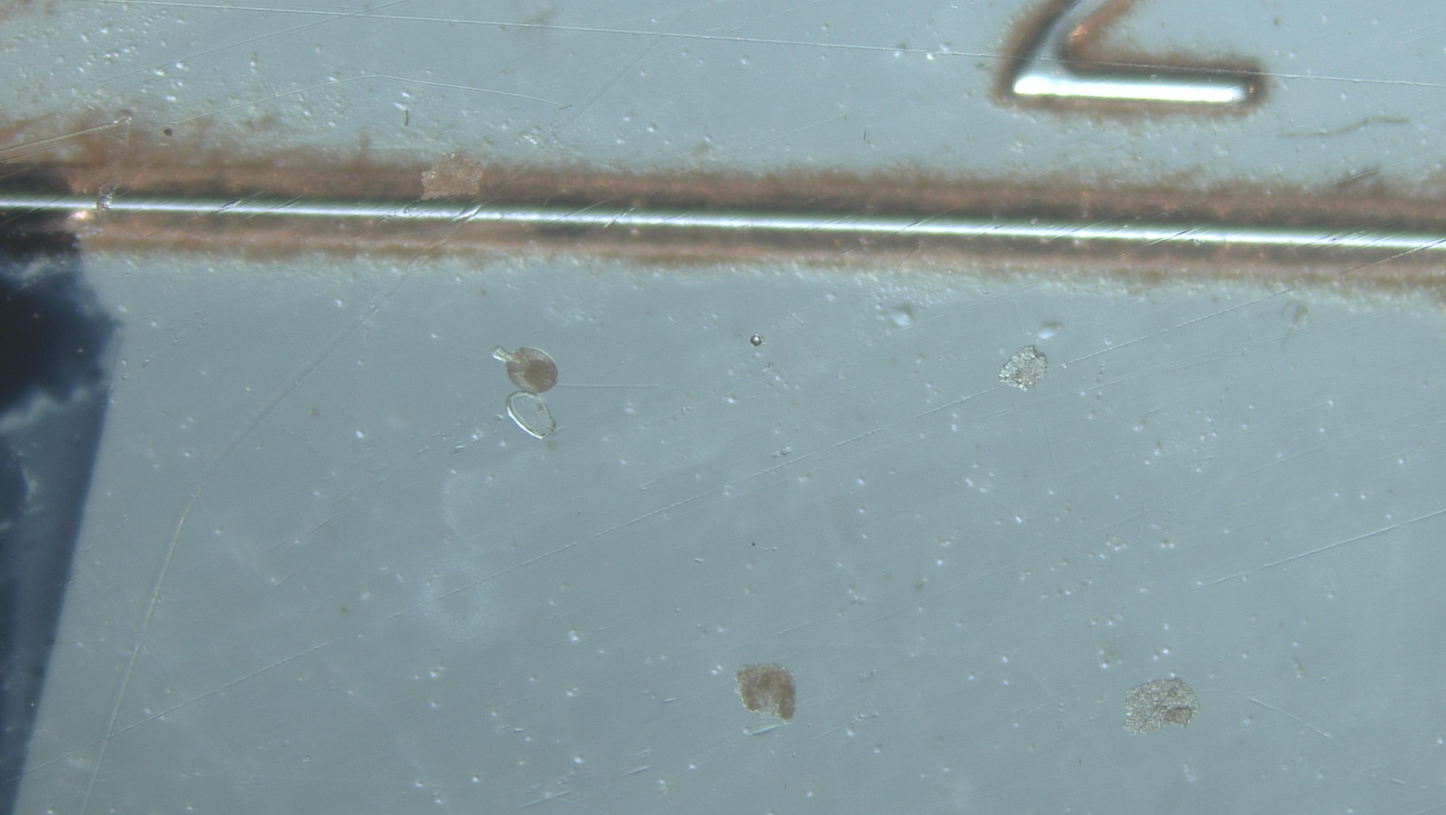dead: (505, 392, 556, 440)
live: (493, 347, 558, 394)
